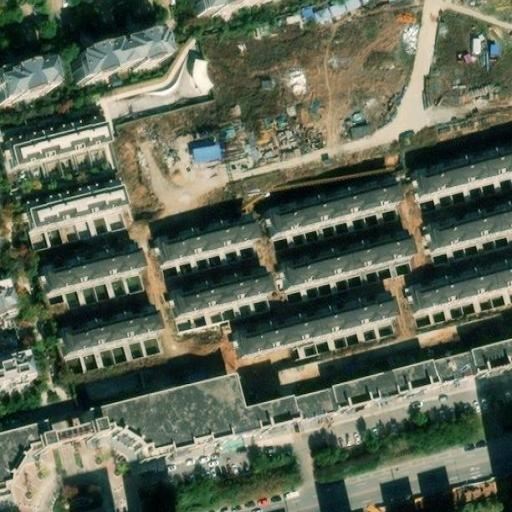building: (0, 348, 512, 501), (234, 298, 395, 364), (276, 237, 412, 297), (265, 184, 399, 244), (12, 122, 114, 179), (406, 266, 512, 320), (39, 245, 140, 300), (56, 307, 156, 362), (171, 275, 273, 328), (25, 182, 123, 237), (413, 150, 512, 204), (69, 33, 168, 85), (152, 223, 255, 272), (423, 208, 512, 257), (0, 61, 57, 102), (0, 352, 38, 391), (192, 57, 218, 93), (0, 281, 20, 323), (194, 144, 220, 161), (0, 224, 7, 251)
